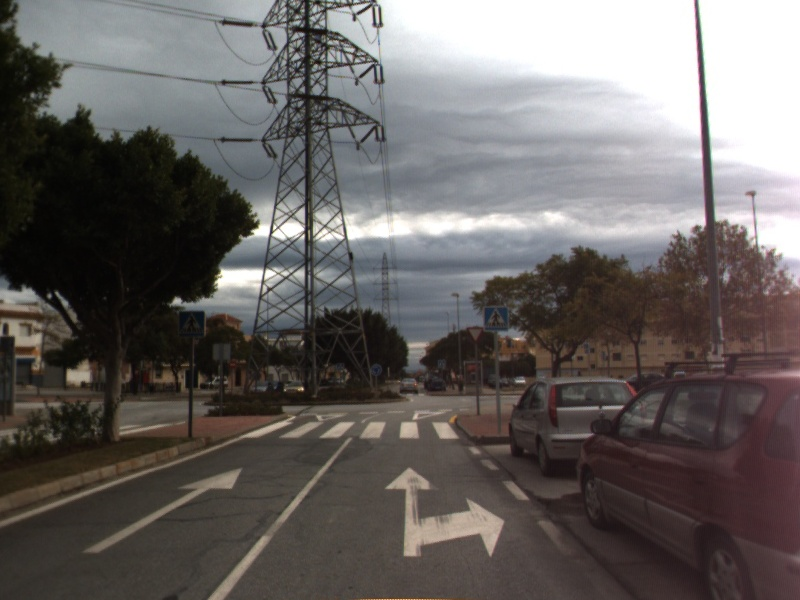STRAIGHT: (79, 466, 245, 555)
STRAIGHT_RIGHT: (382, 464, 507, 559)
